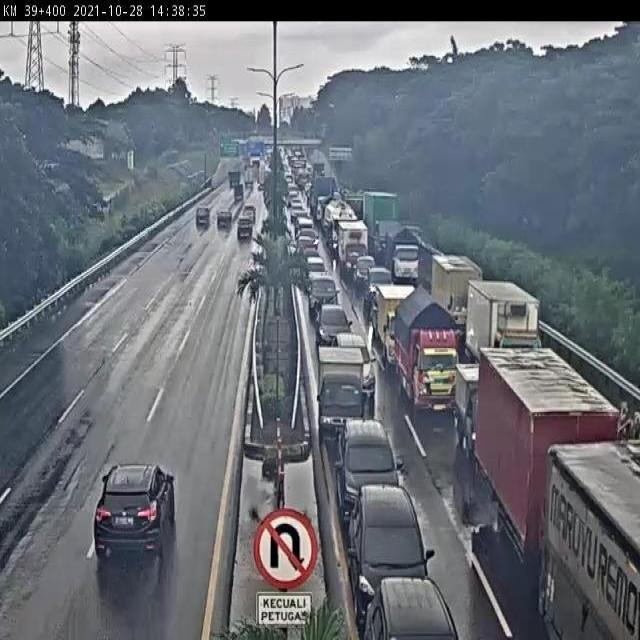big truck: (479, 341, 604, 588), (549, 445, 640, 640)
car: (91, 472, 182, 569), (352, 484, 425, 579), (368, 580, 455, 636), (345, 424, 404, 499), (338, 332, 375, 387), (320, 306, 353, 354), (310, 274, 332, 322), (192, 200, 219, 233), (237, 216, 254, 241), (216, 209, 235, 231)
small truck: (403, 284, 460, 401), (468, 280, 538, 375), (320, 346, 368, 442), (434, 252, 479, 325), (452, 364, 485, 451)
